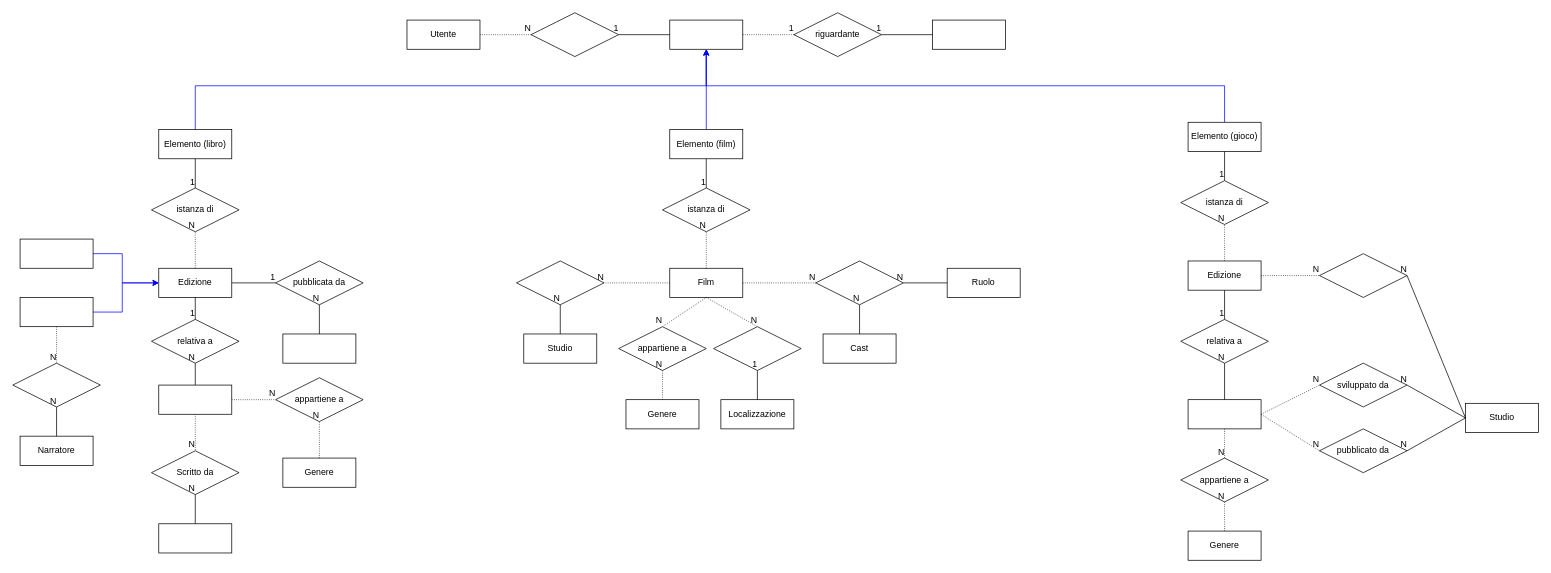
Some shapes in this 1551 by 573 pixel diagram are drawn without their labels. Each missing label, with the centre of its shape:
"Autore" goes at pixel 195 538.
"Editore" goes at pixel 319 348.
"Edizione (audiolibro)" goes at pixel 56 312.
"Edizione (libro)" goes at pixel 56 253.
"Elemento" goes at pixel 706 34.
"Gioco" goes at pixel 1224 414.
"in altre lingue" goes at pixel 757 348.
"Libro" goes at pixel 195 399.
"narrata da" goes at pixel 56 384.
"portato da" goes at pixel 1363 275.
"possiede" goes at pixel 574 34.
"prodotto da" goes at pixel 560 282.
"Recensione" goes at pixel 969 34.
"vi ha preso parte" goes at pixel 859 282.
